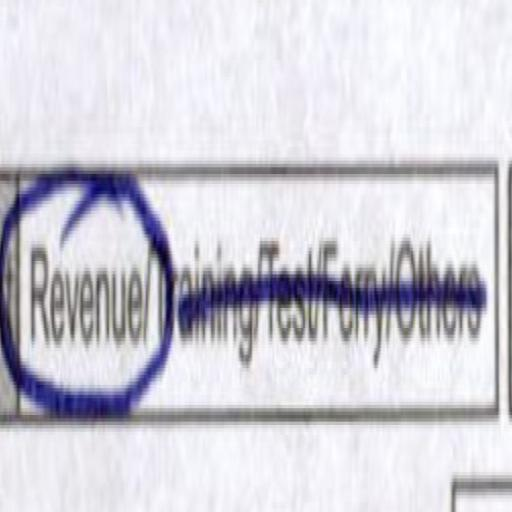check: (24, 110, 155, 456)
